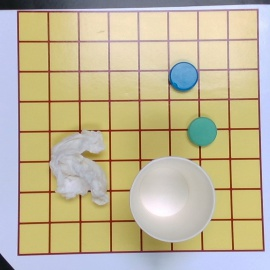blue: (170, 62, 197, 90)
cup: (128, 152, 215, 242)
green: (188, 117, 217, 147)
